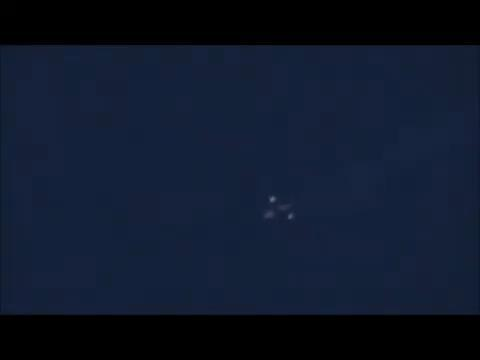Plane: (237, 184, 319, 234)
